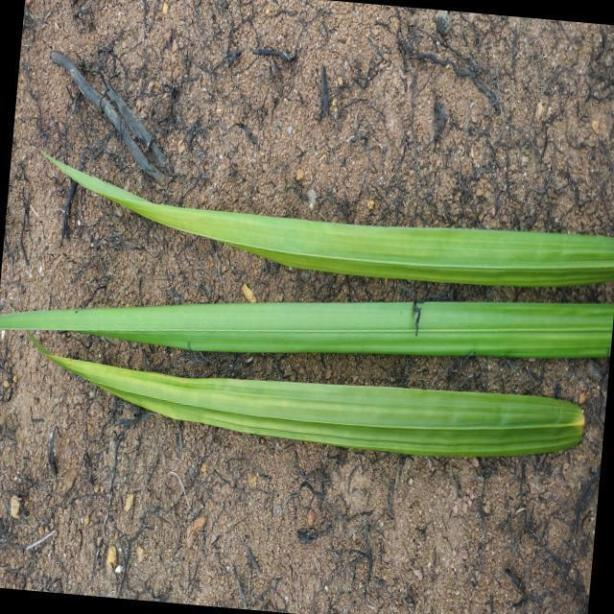nitrogen: (3, 139, 614, 288), (16, 357, 590, 457), (3, 290, 614, 360)
